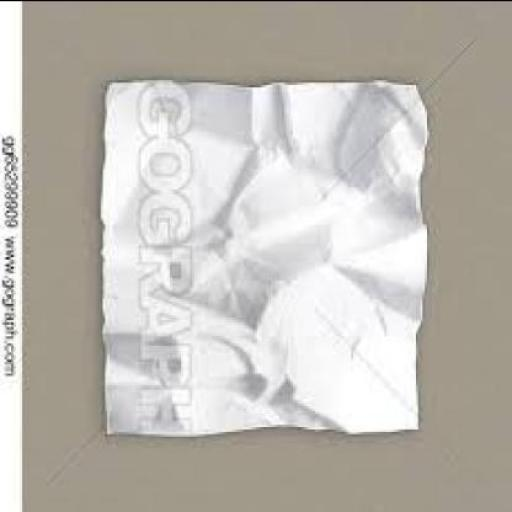paper: (106, 77, 432, 435)
